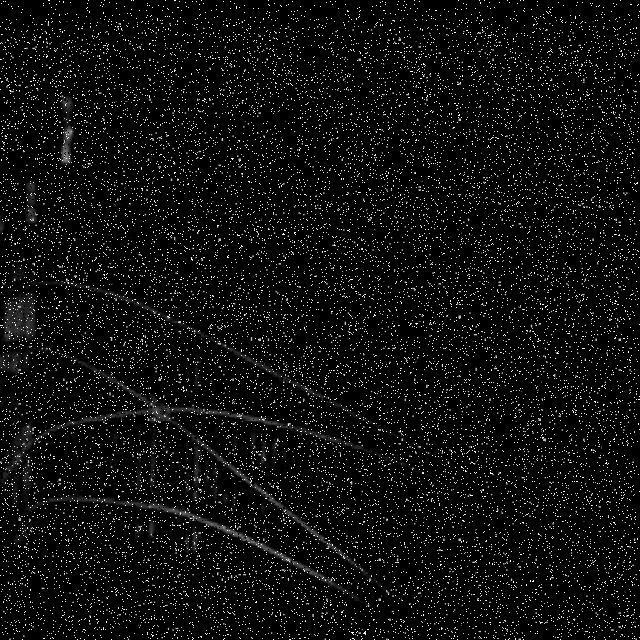rail: (1, 19, 637, 640)
